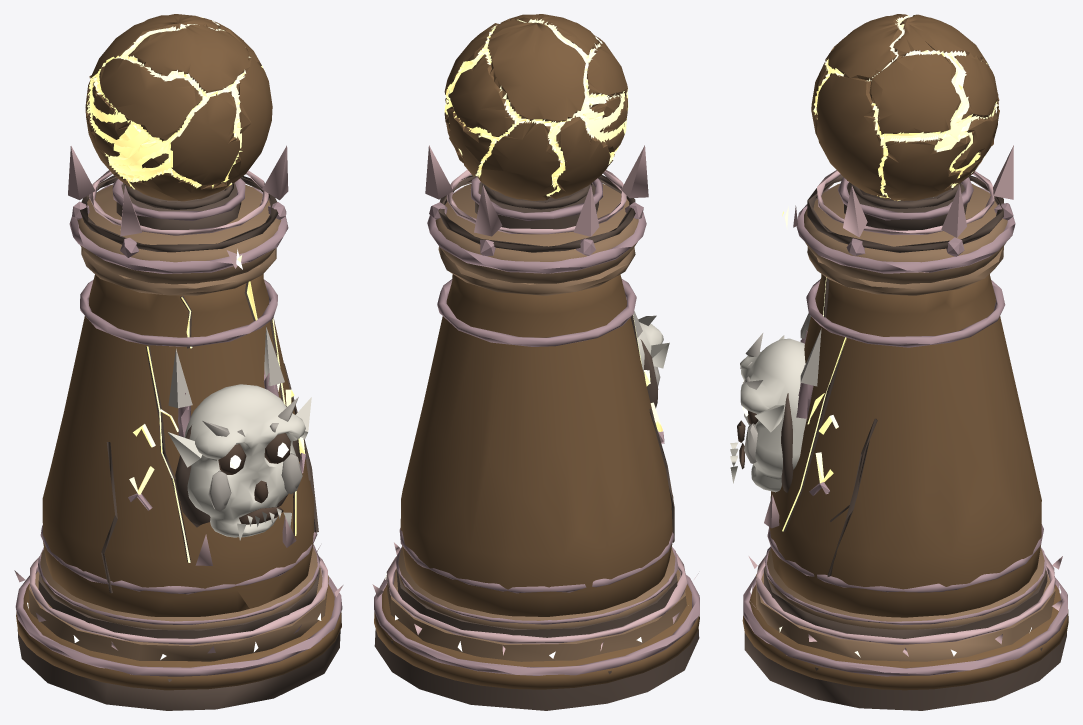
File: pion_Necromantique_orange.copie.old.fbx
3 renders of one model, left to right at view 1: azimuth 30°, elevation 25°; view 2: azimuth 150°, elevation 25°; view 3: azimuth 270°, elevation 25°, orthographic.
Parts seen in each view (by area): view 1: Orbe_Coeur_Magique_VisibleParFissures; view 2: Orbe_Coeur_Magique_VisibleParFissures; view 3: Orbe_Coeur_Magique_VisibleParFissures.
Part boxes in pixels (x1,y1,x2,y2): Orbe_Coeur_Magique_VisibleParFissures: (14,14,343,710); Orbe_Coeur_Magique_VisibleParFissures: (372,14,699,710); Orbe_Coeur_Magique_VisibleParFissures: (730,14,1068,710).
Bounding box in the file's own units: 62.8 × 130 × 64.22.
